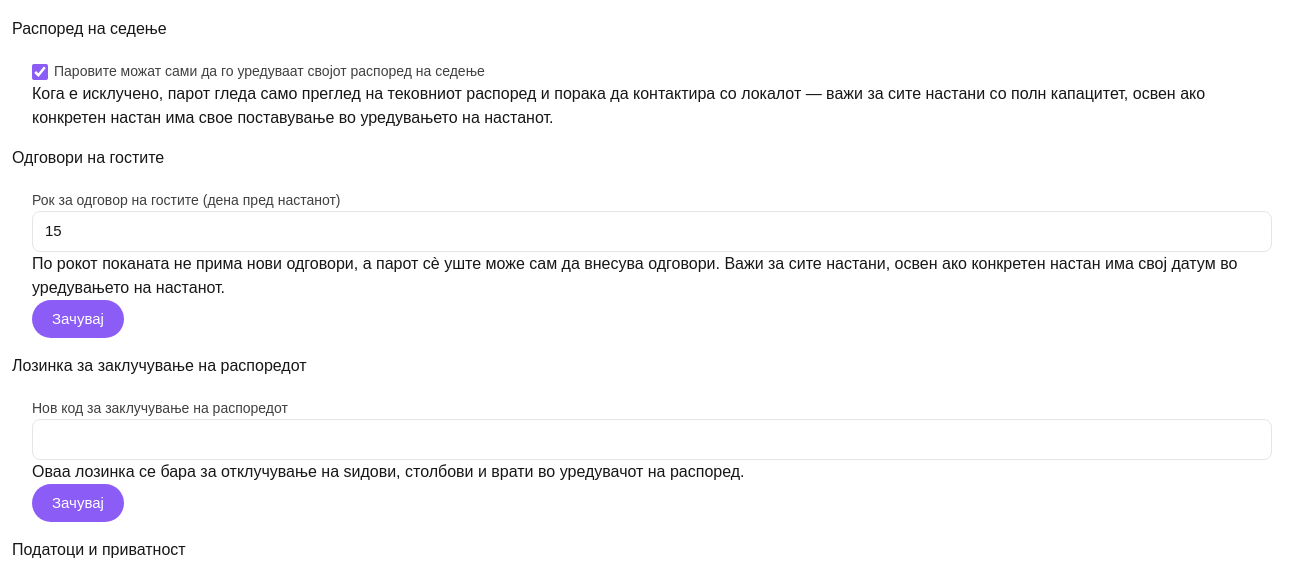
Test: SettingsClient — guests' answer deadline (0180) › refuses a number out of range before sending
(page scrolled)
Step 1. Replace the text in the number field labelled "Рок за одговор на гостите (дена пред настанот)" with "400" → (652, 231), box [32,211,1272,252]
(page scrolled)
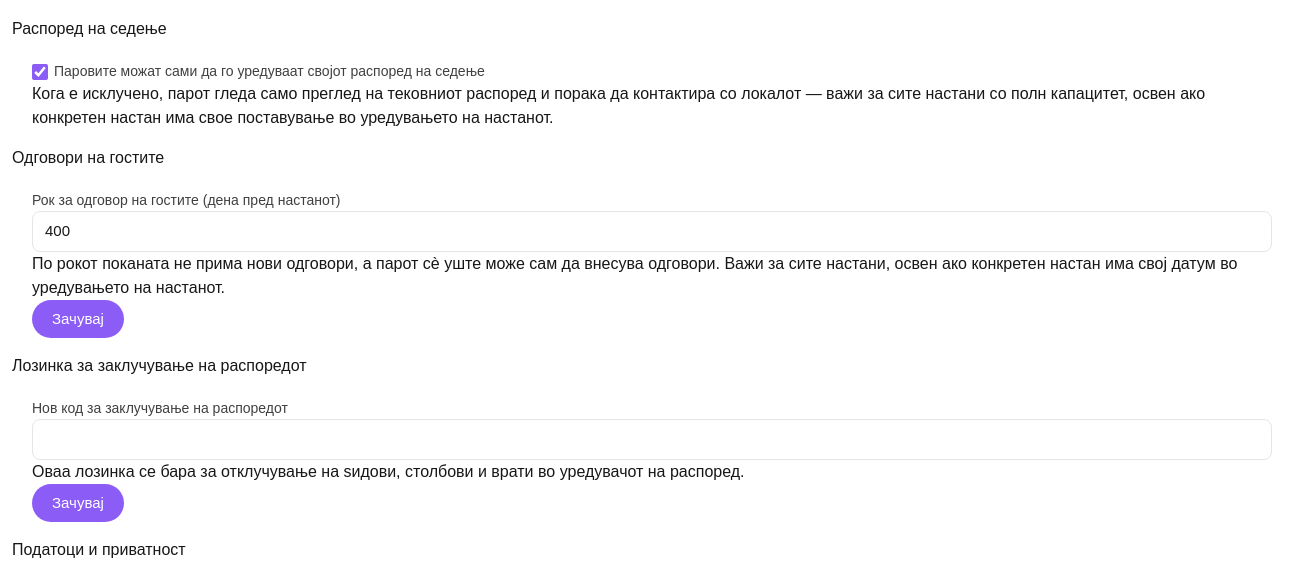
Step 2. Submit the form labelled "Рок за одговор на гостите (дена пред настанот)", box [12,170,1291,354]
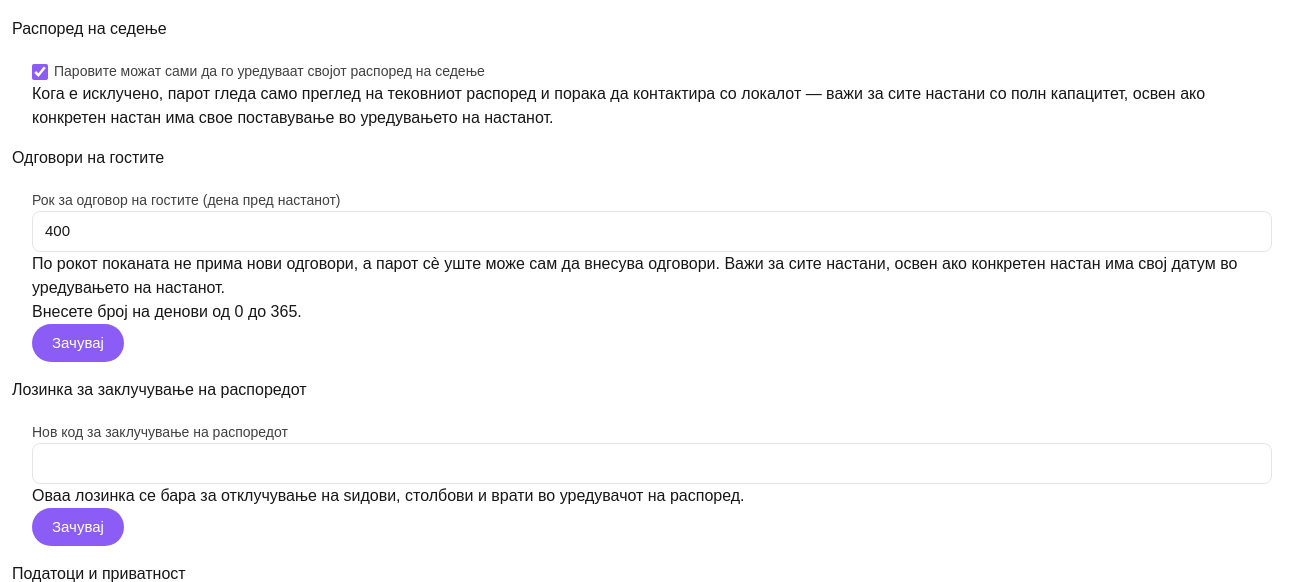
Expected: the text "Внесете број на денови од 0 до 365." is shown, [32,302,302,320]
